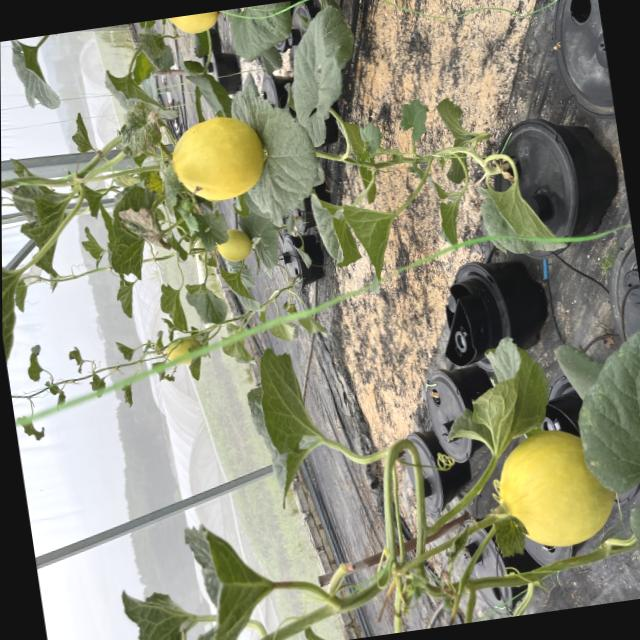CMV: (3, 153, 81, 282), (104, 212, 151, 281), (489, 510, 532, 565), (66, 107, 95, 161)
SLCV: (115, 96, 163, 159)
downy mildew: (556, 309, 640, 604), (222, 69, 323, 231), (181, 272, 232, 330), (395, 98, 431, 146)
healthy: (431, 331, 558, 465), (240, 342, 333, 518), (278, 3, 366, 149), (477, 173, 565, 260), (340, 195, 403, 294), (430, 94, 477, 196), (225, 1, 298, 64), (7, 35, 60, 115), (234, 201, 284, 274), (2, 245, 30, 370), (348, 120, 389, 198), (103, 60, 165, 111), (424, 174, 467, 246), (309, 189, 348, 268), (220, 260, 264, 318), (157, 273, 191, 336)
